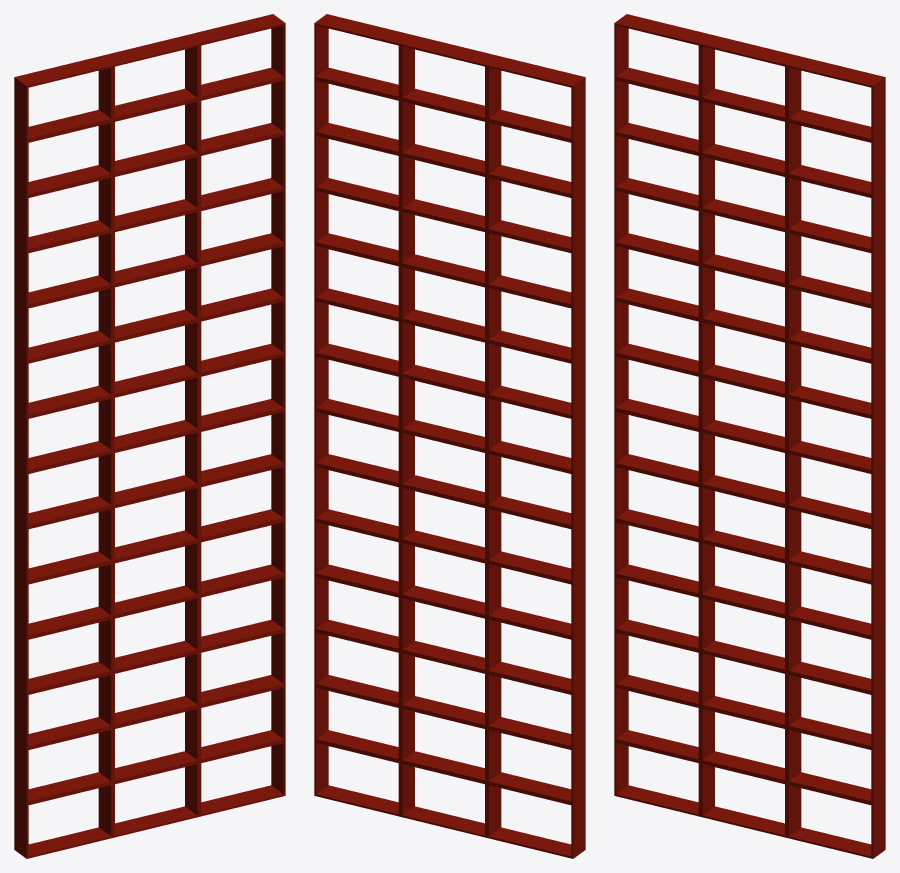
The picture shows the model from 3 angles, left to right: view 1: azimuth 30°, elevation 25°; view 2: azimuth 150°, elevation 25°; view 3: azimuth 330°, elevation 25°; orthographic projection.
Parts seen in each view (by area): view 1: Cube.078; view 2: Cube.078; view 3: Cube.078.
Boxes of the visible parts, left/top/right/bottom form: Cube.078: left=14, top=14, right=285, bottom=858; Cube.078: left=314, top=14, right=585, bottom=858; Cube.078: left=614, top=14, right=885, bottom=858.
Size of the model in its own units: 3.51 by 10.03 by 0.2899.
